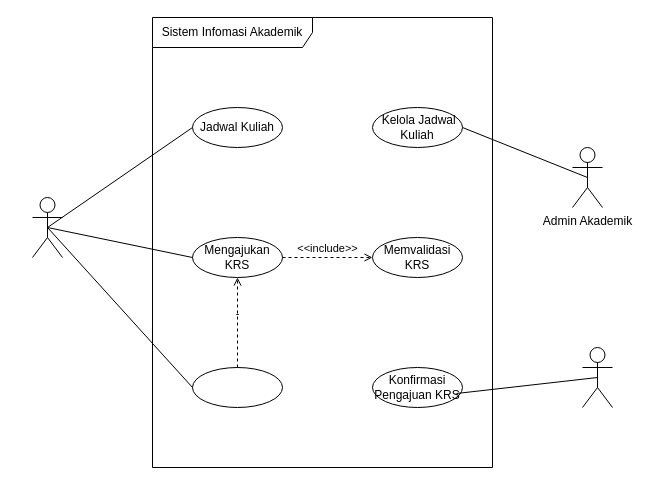
This 649x485 diagram has some shape labels left out. The shapes that lost their labels are listed below. From the top down, each one's centre as x and y in pixels, then its label:
pixel 47 227: Mahasiswa
pixel 237 387: Lihat Bukti Pengajuan KRS
pixel 597 377: Dosen Wali
